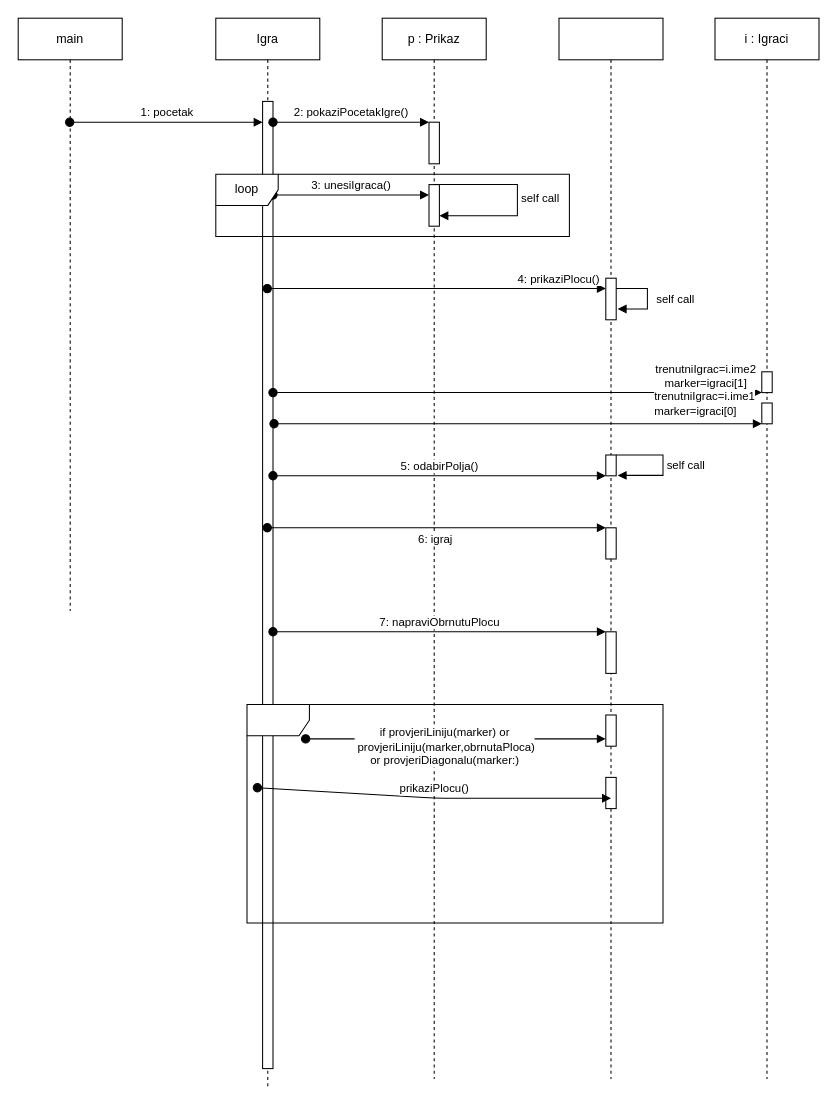
Some shapes in this 837 by 1108 pixel diagram are drawn without their labels. Here are the shapes that lost their labels. From the top down, the centre of each, then its label:
point 610,548: b: Bodovanje()
point 454,813: loop:
